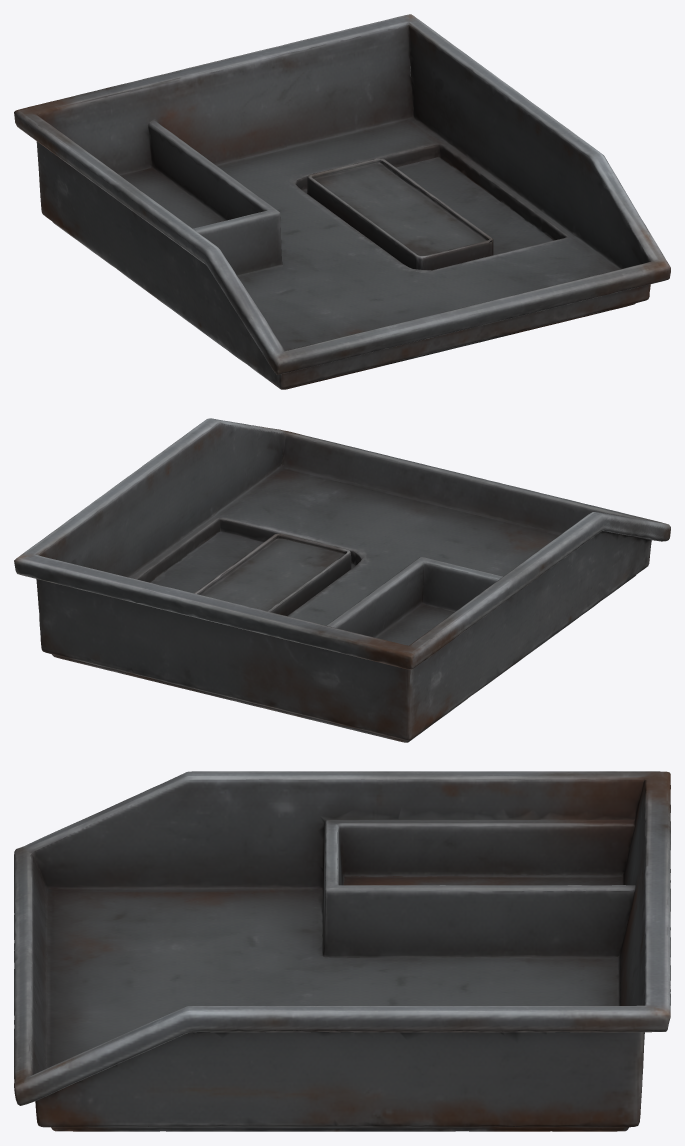
Rendered from facultyoffice_DeskOrganizer.glb.
3 renders of one model, top to bottom at view 1: azimuth 30°, elevation 25°; view 2: azimuth 150°, elevation 25°; view 3: azimuth 270°, elevation 25°, orthographic. The views are drawn at different scales.
Parts seen in each view (by area): view 1: world; view 2: world; view 3: world.
Boxes of the visible parts, x1=… form: world: x1=14, y1=14, x2=670, y2=389; world: x1=14, y1=418, x2=670, y2=742; world: x1=14, y1=771, x2=670, y2=1131.
Bounding box in the file's own units: 0.8782 × 0.2241 × 1.
1 material, 1 textured.
